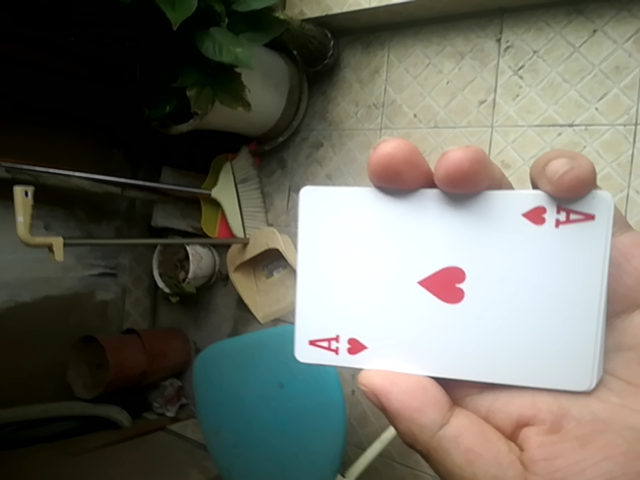hx a: (296, 185, 623, 387)
